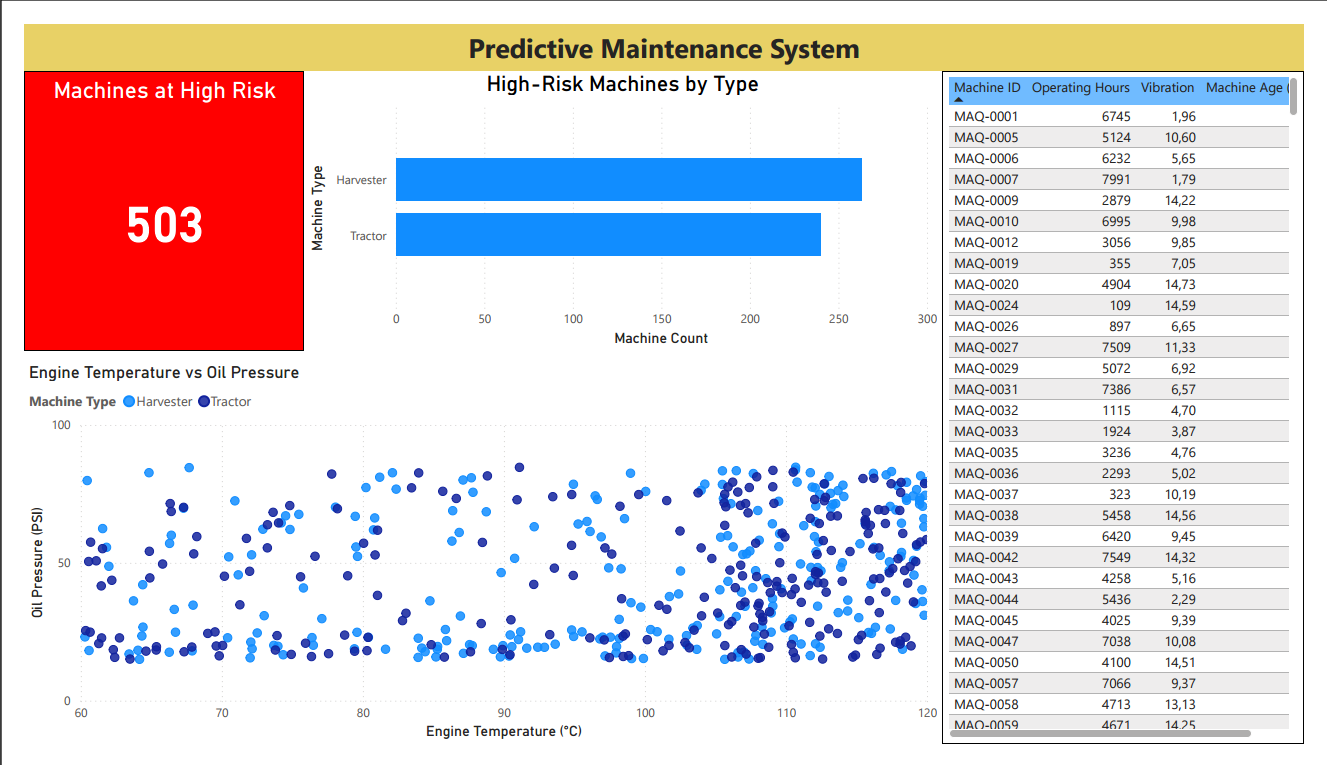

The page's visual inventory and layout, read from the dashboard file:
{"tool":"powerbi","page":{"name":"Predictive Dashboard","canvas":[1280,720],"ordinal":0},"visuals":[{"type":"card","title":"Machines at High Risk","fields":{"Values":["CountNonNull(Sheet1.ID_Maquina)"]},"box":[0,47.2,225.1,248],"z":0},{"type":"textbox","box":[0,0,1280.3,46.7],"z":1000},{"type":"clusteredBarChart","title":"High-Risk Machines by Type","fields":{"Category":["Sheet1.Tipo"],"Y":["CountNonNull(Sheet1.ID_Maquina)"]},"box":[225.1,47.2,692.7,248],"z":2000},{"type":"scatterChart","title":"Engine Temperature vs Oil Pressure","fields":{"X":["Avg(Sheet1.Temperatura_Motor)"],"Y":["Avg(Sheet1.Presion_Aceite)"],"Category":["Sheet1.ID_Maquina"],"Series":["Sheet1.Tipo"]},"box":[0,295.1,917.8,425.9],"z":3000},{"type":"tableEx","fields":{"Values":["Sheet1.ID_Maquina","Sheet1.Horas_Uso","Sheet1.Vibracion","Sheet1.Antiguedad_Anios"]},"box":[918,46.7,362.3,673.8],"z":4000}]}

Visuals, with their boxes in screenshot pixels (x1, y1, x2, y2), scaled from the page's 1280x720 canvas onto the 1327x765 screenshot:
"Machines at High Risk" card: box=[0, 50, 233, 314]
textbox: box=[0, 0, 1326, 50]
"High-Risk Machines by Type" clusteredBarChart: box=[233, 50, 952, 314]
"Engine Temperature vs Oil Pressure" scatterChart: box=[0, 314, 952, 764]
tableEx - Sheet1.ID_Maquina x Sheet1.Horas_Uso: box=[952, 50, 1326, 764]
